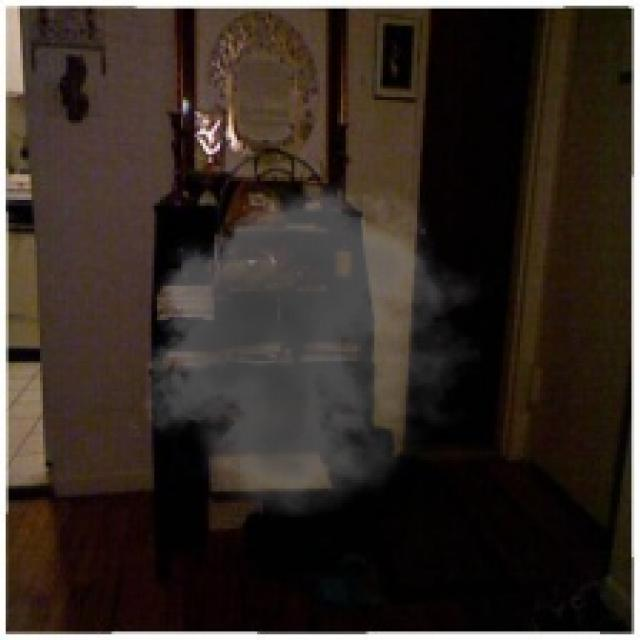smoke: (128, 172, 483, 517)
